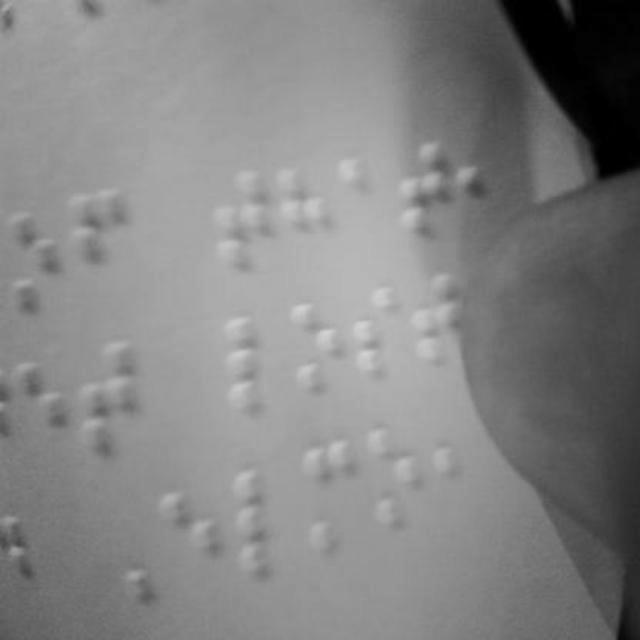braiile: (232, 464, 296, 584), (162, 483, 228, 593), (80, 340, 142, 454), (1, 204, 64, 316), (366, 419, 429, 531), (68, 182, 128, 298), (15, 352, 71, 464), (304, 441, 358, 554), (218, 168, 274, 276), (336, 147, 390, 257), (288, 294, 348, 392), (226, 312, 284, 412), (397, 138, 447, 252), (278, 154, 330, 262), (348, 273, 402, 377)
